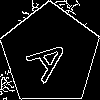A: (25, 30, 80, 85)
